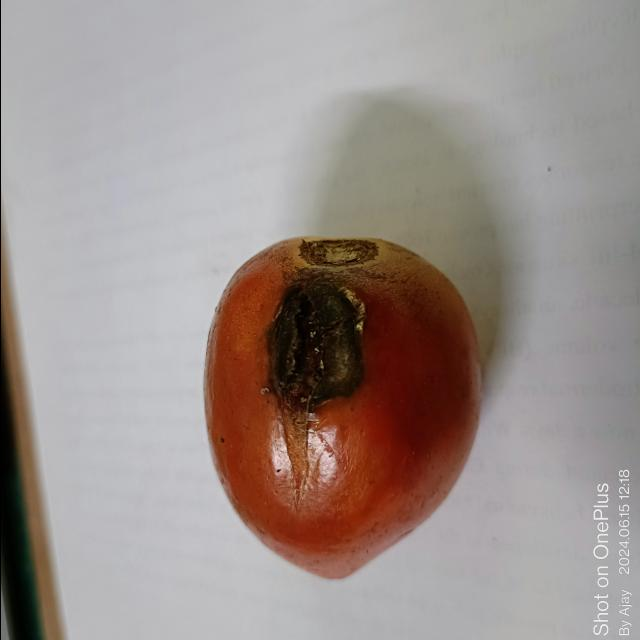Anthrocnose: (266, 268, 361, 422)
